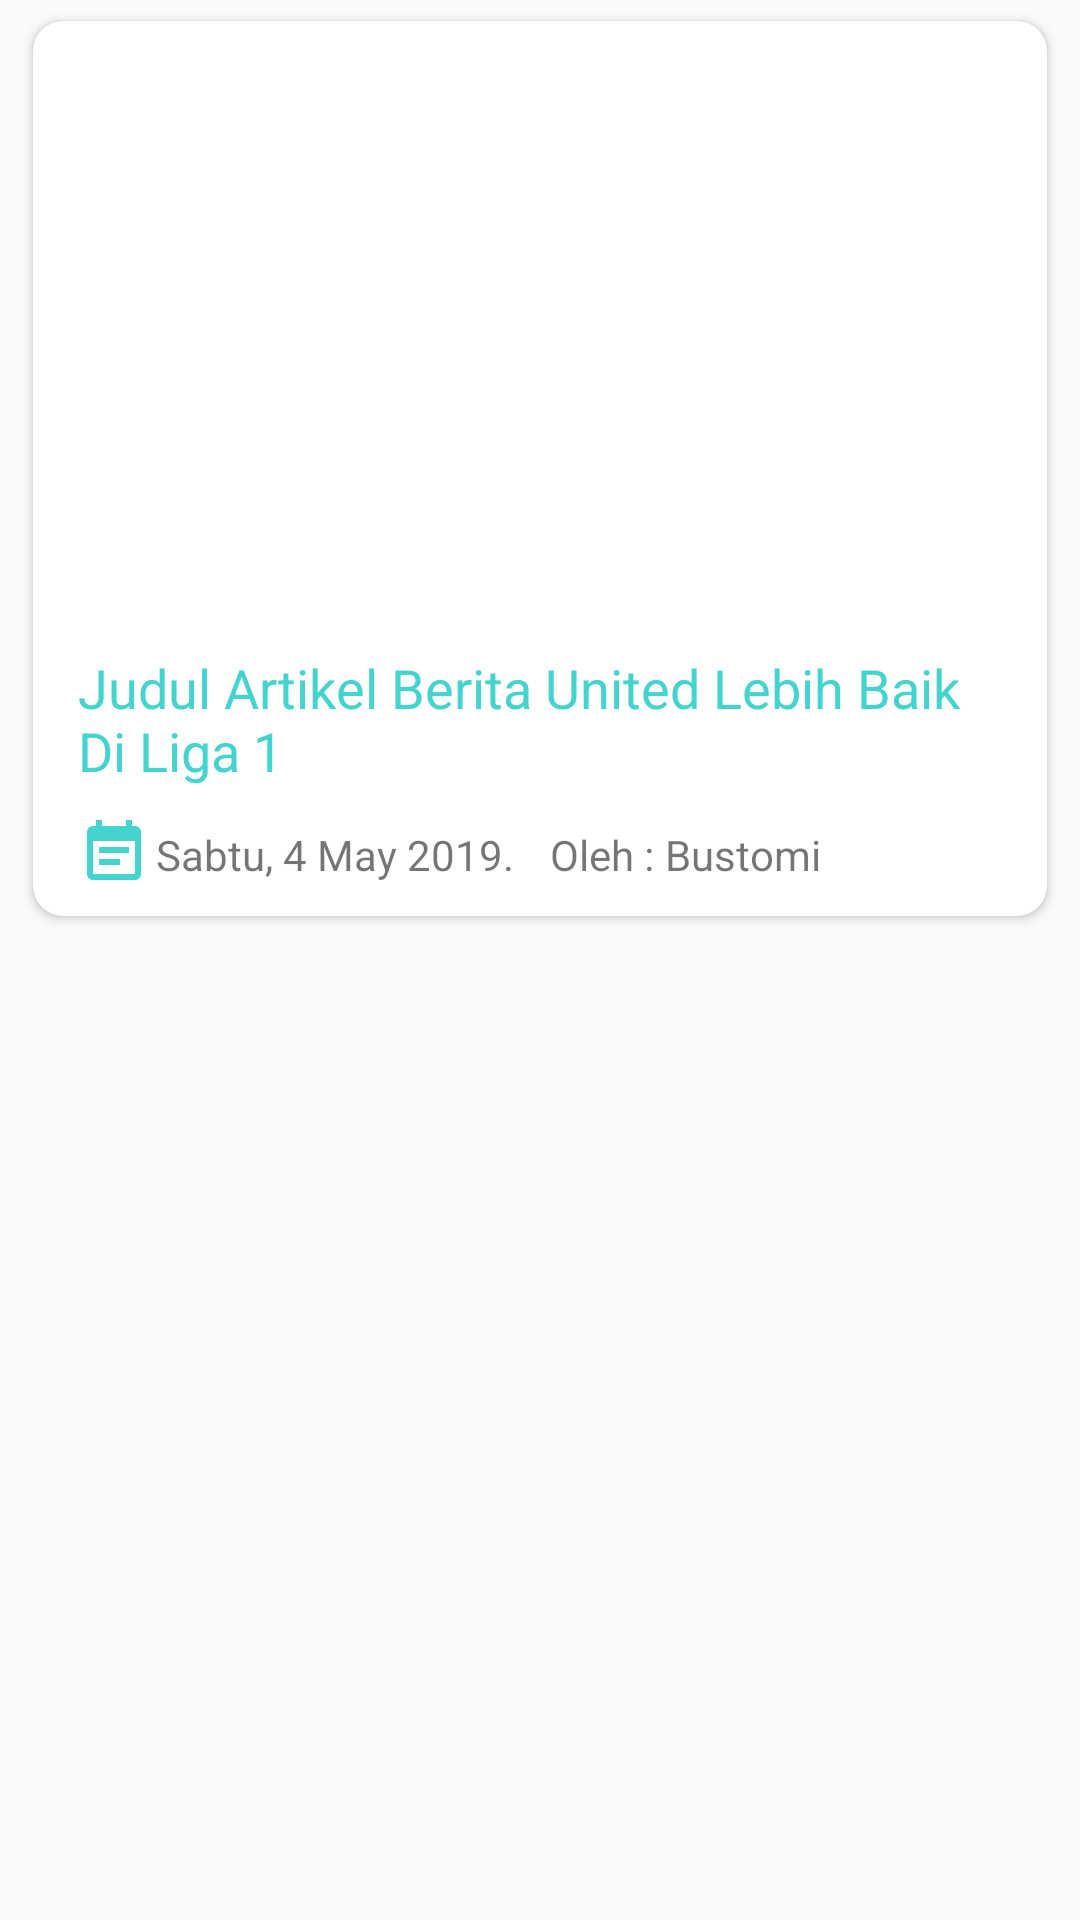

Point at icon controls on the screen. Image size 1080x1920, points as [x,y].
event note: [114,850]
